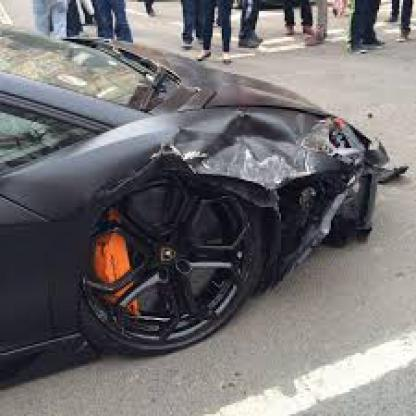dent: (194, 112, 361, 202), (119, 142, 177, 180)
